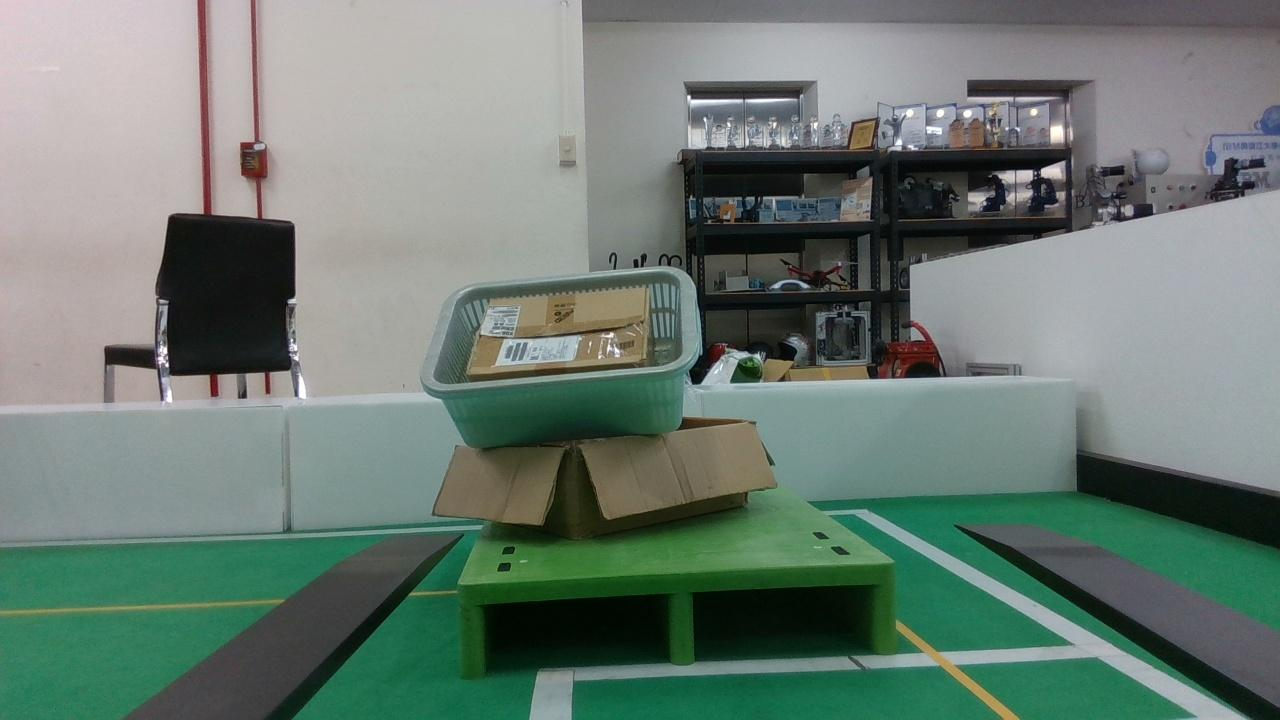Pallet: (460, 563, 897, 680)
